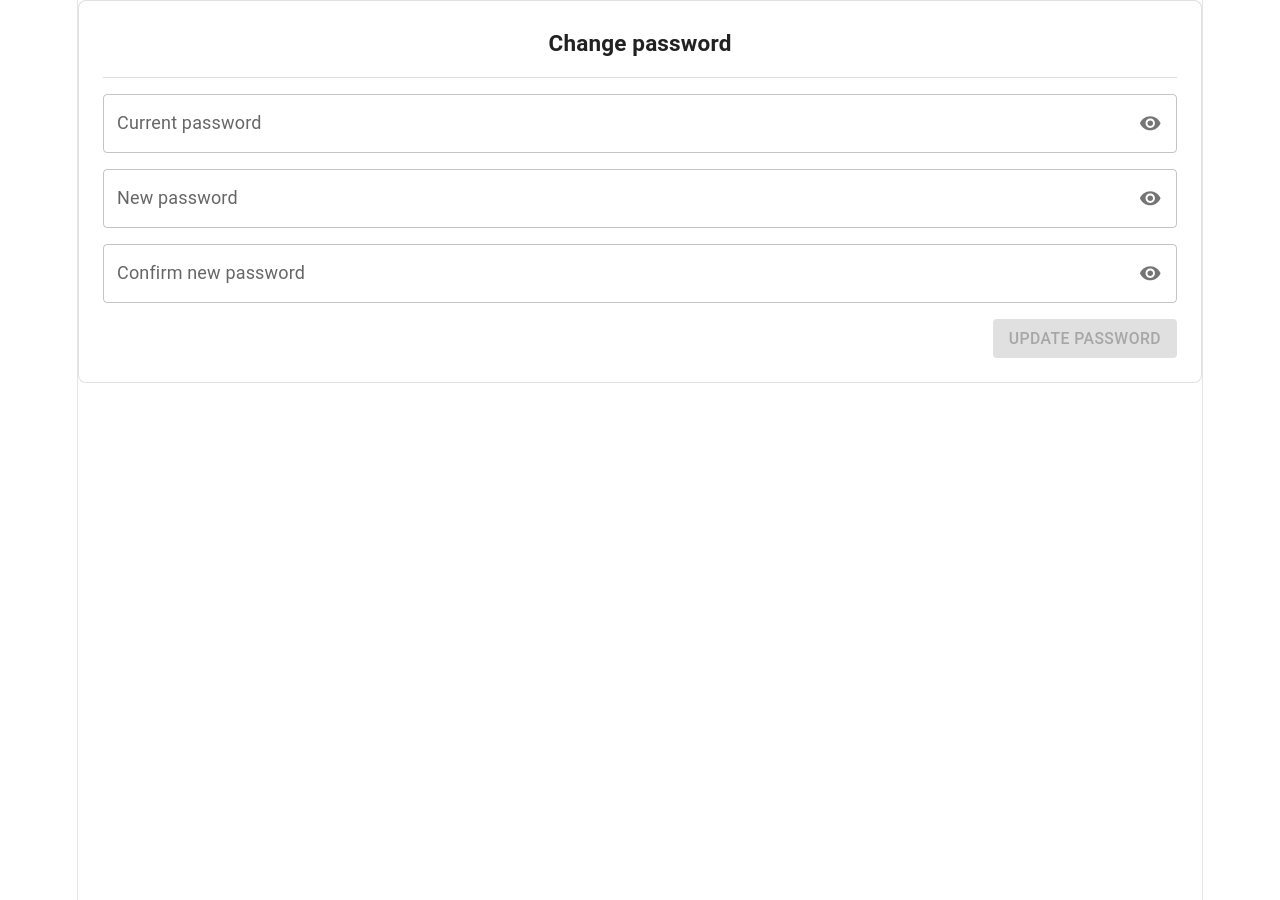
ChangePasswordSection › submits and reports success
Type "OldPassw0rd!!" into the password field labelled "Current password". click: [614, 123]
box: [103,94,1126,153]
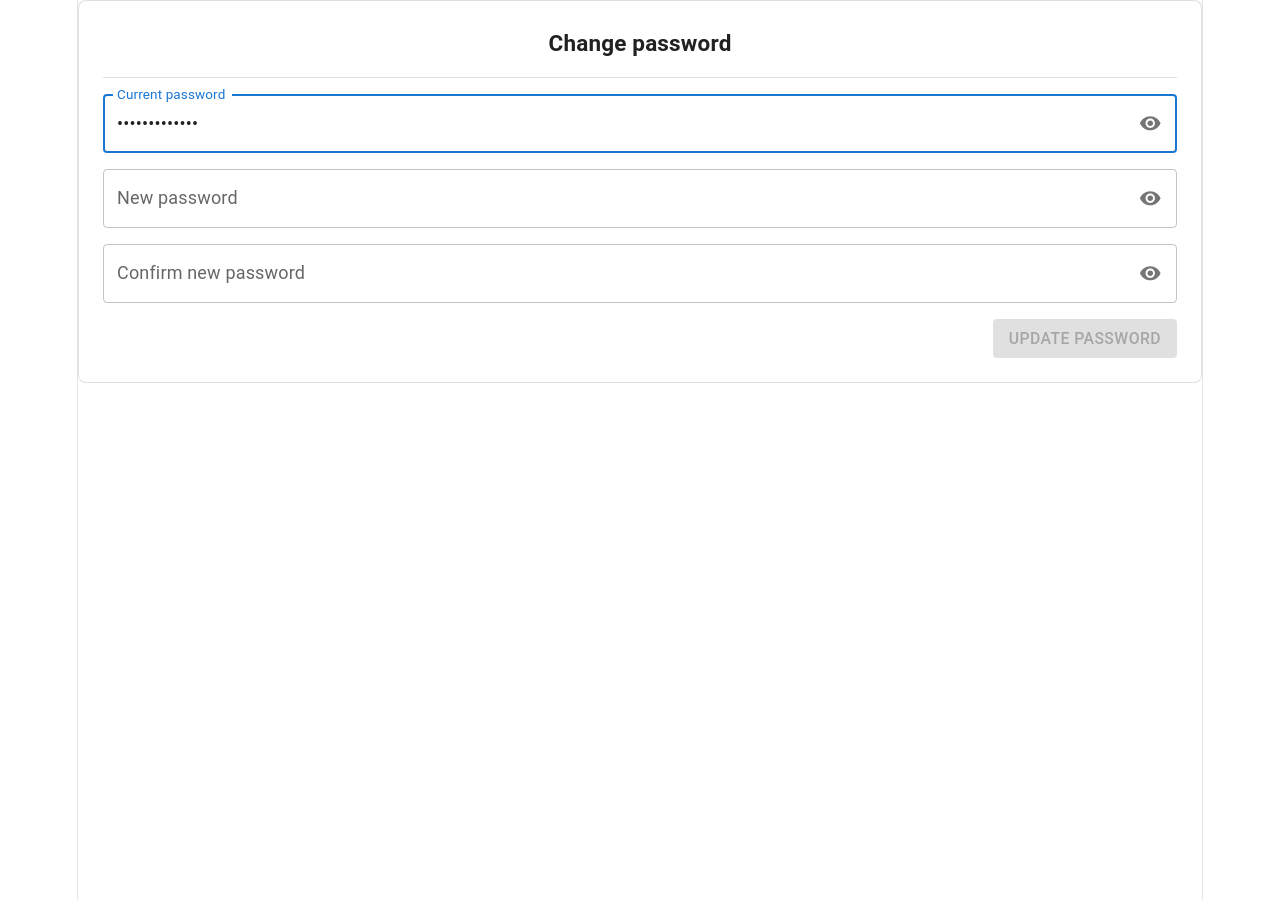
Type "BrandNewSecret9!" into the password field labelled "New password". click: [614, 198]
box: [103,169,1126,228]
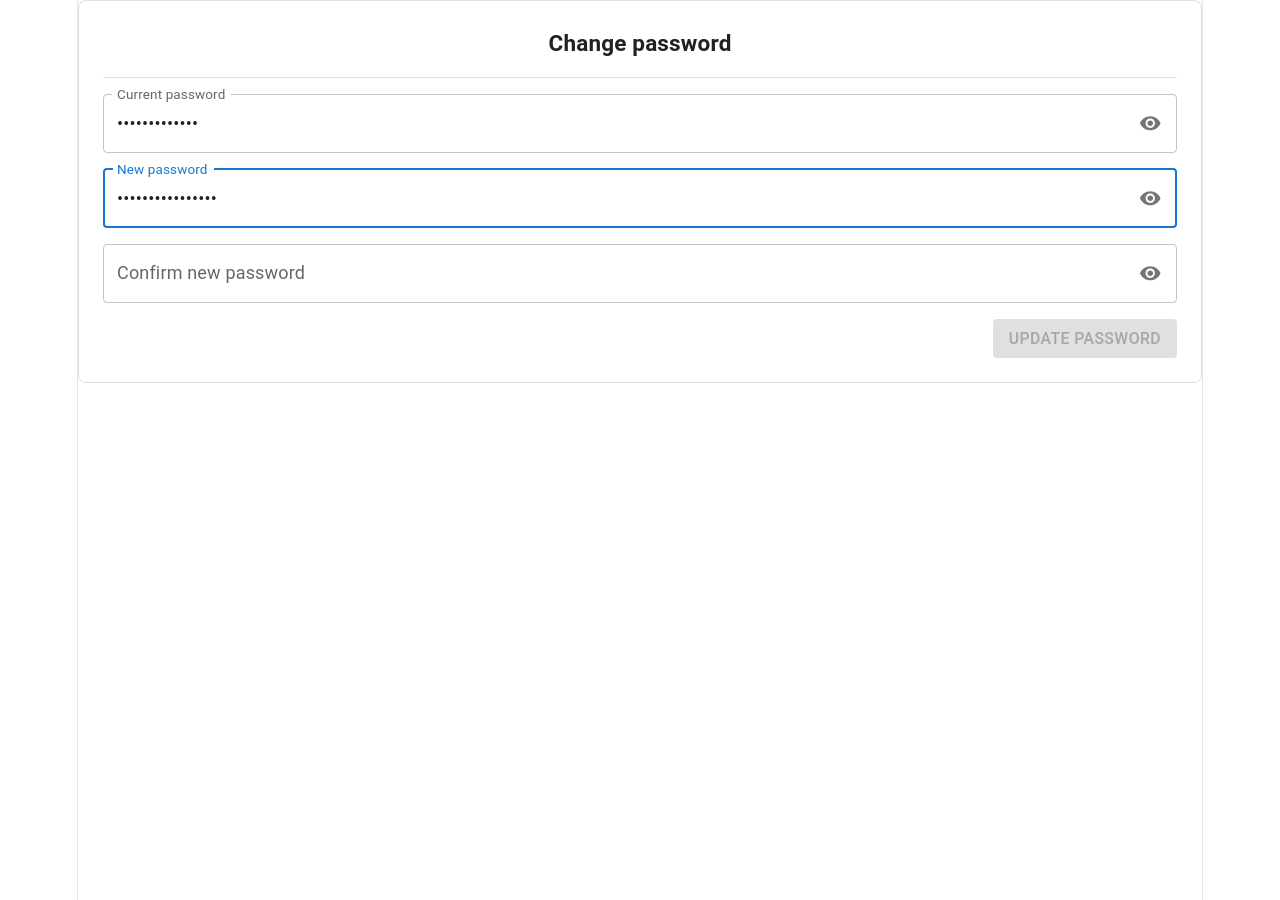
Type "BrandNewSecret9!" into the password field labelled "Confirm new password". click: [614, 273]
box: [103,244,1126,303]
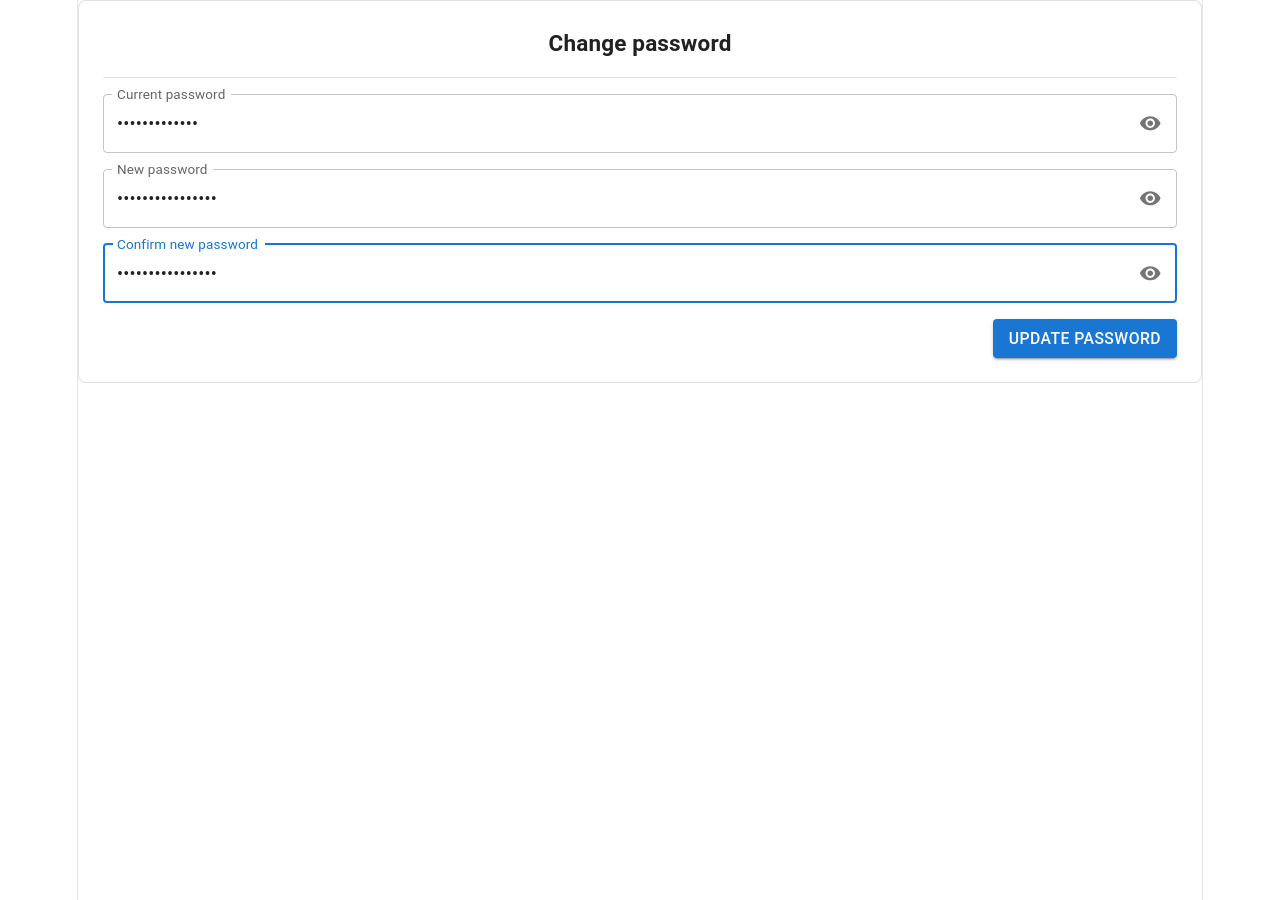
Check: the button "Update password" is enabled
Click the button "Update password". click: [1085, 338]
box: [993,319,1177,358]
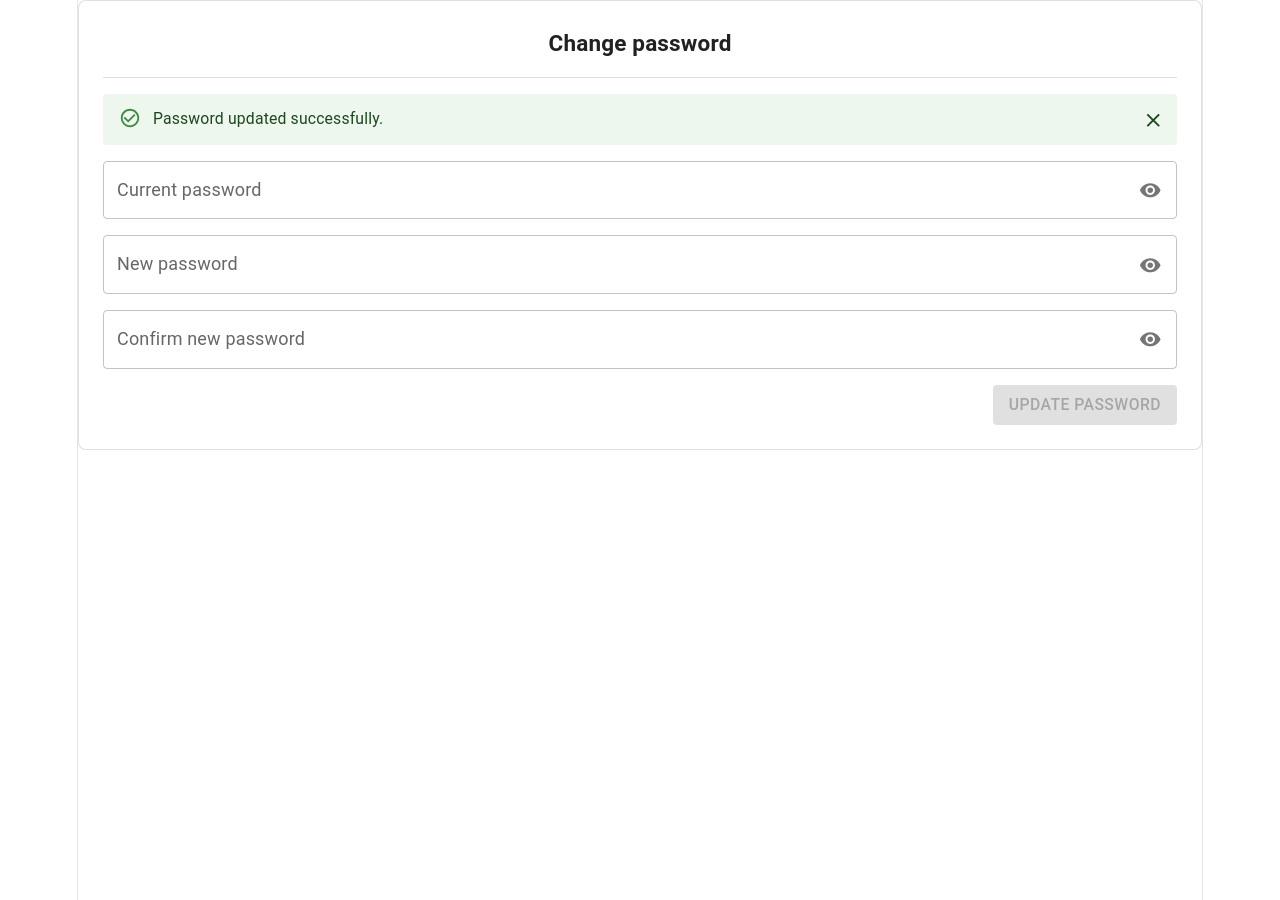
Check: the text "Password updated successfully." is shown, box [153,109,383,128]
